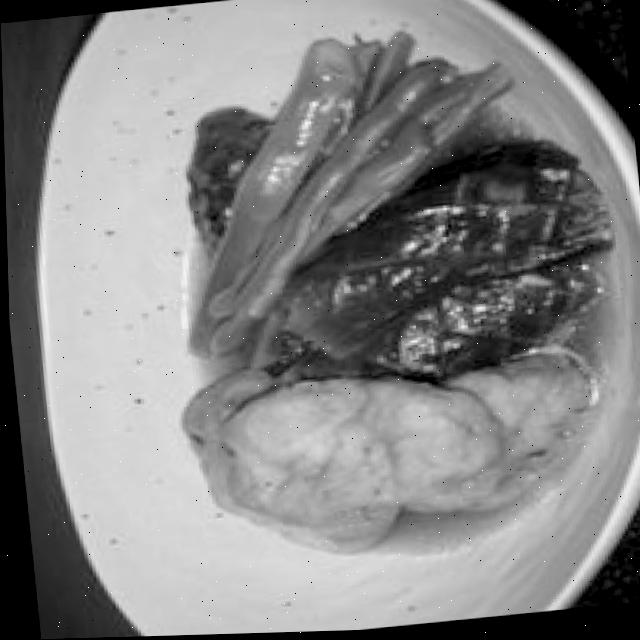熟制海鲜: (115, 302, 640, 622)
